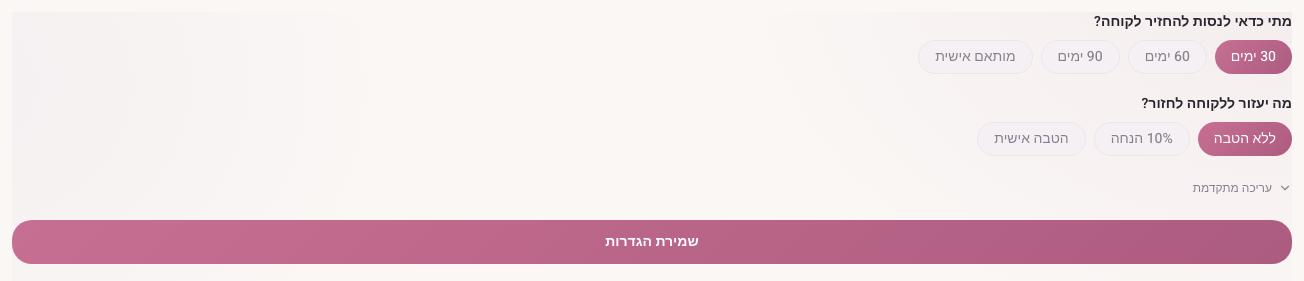
Test: WinBackSettingsForm — thresholds & offers › saves a preset threshold and reports success
Click the button "60 ימים" at (1167,57), box [1128,40,1207,74]
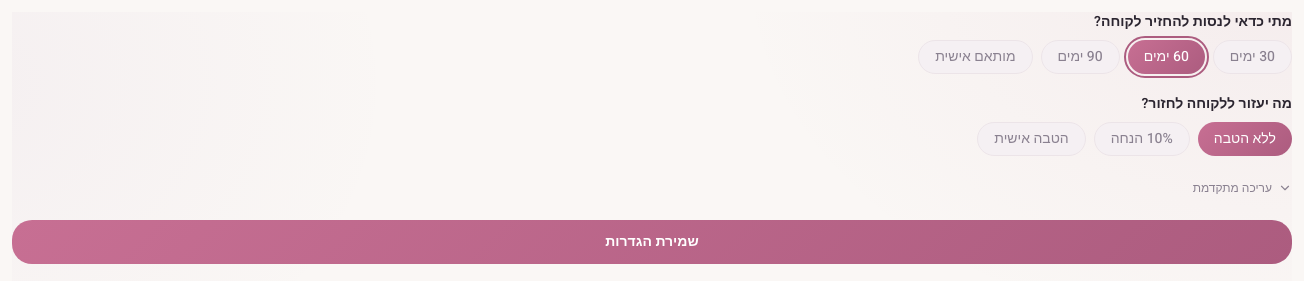
Click the button "שמירת הגדרות" at (652,242), box [12,220,1292,264]
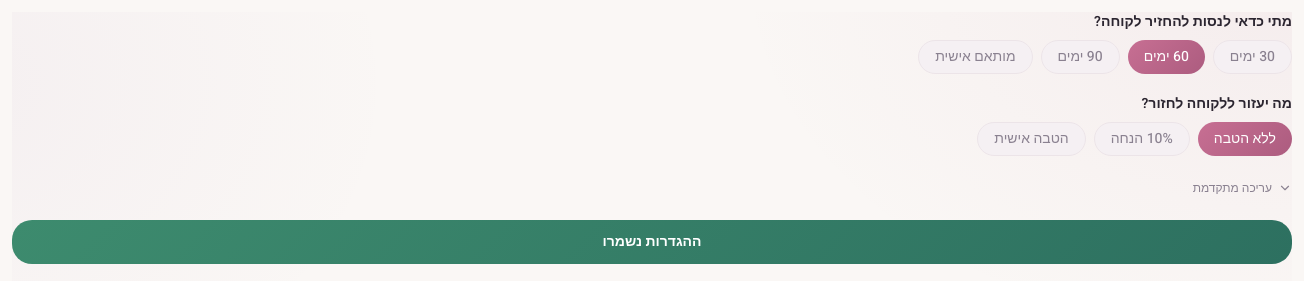
Result: the button "ההגדרות נשמרו" is shown at [12,220,1292,264]
